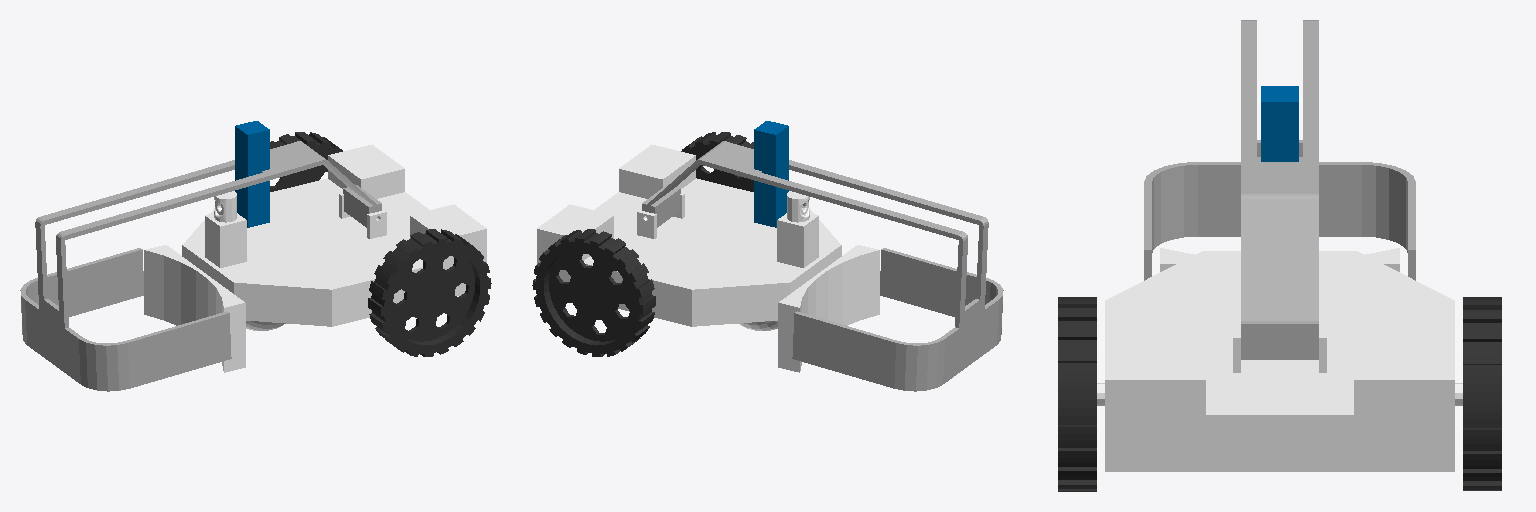
URDF robot description (t_robot):
<?xml version="1.0" encoding="utf-8"?>
<!-- This URDF was automatically created by SolidWorks to URDF Exporter! Originally created by [author] ([email redacted]) 
     Commit Version: 1.6.0-1-g15f4949  Build Version: 1.6.7594.29634
     For more information, please see http://wiki.ros.org/sw_urdf_exporter -->
<robot
  name="t_robot">
  <link
    name="base_link">
    <inertial>
      <origin
        xyz="0.0032126 0.039362 3.1215E-10"
        rpy="0 0 0" />
      <mass
        value="8" />
      <inertia
        ixx="0.33295"
        ixy="-0.033567"
        ixz="1.4807E-09"
        iyy="0.77867"
        iyz="-1.1059E-09"
        izz="0.50589" />
    </inertial>
    <visual>
      <origin
        xyz="0 0 0"
        rpy="0 0 0" />
      <geometry>
        <mesh
          filename="package://t_robot/meshes/base_link.STL" />
      </geometry>
      <material
        name="">
        <color
          rgba="1 1 1 1" />
      </material>
    </visual>
    <collision>
      <origin
        xyz="0 0 0"
        rpy="0 0 0" />
      <geometry>
        <mesh
          filename="package://t_robot/meshes/base_link.STL" />
      </geometry>
    </collision>
  </link>
  <link
    name="R_Link">
    <inertial>
      <origin
        xyz="0.024841 -2.5496E-10 2.4664E-10"
        rpy="0 0 0" />
      <mass
        value="1.0395" />
      <inertia
        ixx="0.010857"
        ixy="-5.4037E-11"
        ixz="5.2271E-11"
        iyy="0.0055922"
        iyz="-4.5579E-19"
        izz="0.0055922" />
    </inertial>
    <visual>
      <origin
        xyz="0 0 0"
        rpy="0 0 0" />
      <geometry>
        <mesh
          filename="package://t_robot/meshes/R_Link.STL" />
      </geometry>
      <material
        name="">
        <color
          rgba="0.25098 0.25098 0.25098 1" />
      </material>
    </visual>
    <collision>
      <origin
        xyz="0 0 0"
        rpy="0 0 0" />
      <geometry>
        <mesh
          filename="package://t_robot/meshes/R_Link.STL" />
      </geometry>
    </collision>
  </link>
  <joint
    name="R_Joint"
    type="continuous">
    <origin
      xyz="0.1 0.235 0.04"
      rpy="0.73198 0 1.5708" />
    <parent
      link="base_link" />
    <child
      link="R_Link" />
    <axis
      xyz="-1 0 0" />
  </joint>
  <link
    name="L_Link">
    <inertial>
      <origin
        xyz="0.024841 3.3307E-15 1.7271E-14"
        rpy="0 0 0" />
      <mass
        value="1.0395" />
      <inertia
        ixx="0.010857"
        ixy="-5.4352E-19"
        ixz="-1.9914E-18"
        iyy="0.0055922"
        iyz="2.1684E-19"
        izz="0.0055922" />
    </inertial>
    <visual>
      <origin
        xyz="0 0 0"
        rpy="0 0 0" />
      <geometry>
        <mesh
          filename="package://t_robot/meshes/L_Link.STL" />
      </geometry>
      <material
        name="">
        <color
          rgba="0.25098 0.25098 0.25098 1" />
      </material>
    </visual>
    <collision>
      <origin
        xyz="0 0 0"
        rpy="0 0 0" />
      <geometry>
        <mesh
          filename="package://t_robot/meshes/L_Link.STL" />
      </geometry>
    </collision>
  </link>
  <joint
    name="L_Joint"
    type="continuous">
    <origin
      xyz="0.1 -0.235 0.04"
      rpy="-3.0125 0 -1.5708" />
    <parent
      link="base_link" />
    <child
      link="L_Link" />
    <axis
      xyz="1 0 0" />
  </joint>
  <link
    name="Gripper_Link">
    <inertial>
      <origin
        xyz="0.46048 -0.014857 1.8794E-16"
        rpy="0 0 0" />
      <mass
        value="0.100" />
      <inertia
        ixx="0.03609"
        ixy="0.01982"
        ixz="5.644E-17"
        iyy="0.11229"
        iyz="3.0979E-17"
        izz="0.10981" />
    </inertial>
    <visual>
      <origin
        xyz="0 0 0"
        rpy="0 0 0" />
      <geometry>
        <mesh
          filename="package://t_robot/meshes/Gripper_Link.STL" />
      </geometry>
      <material
        name="">
        <color
          rgba="0.75294 0.75294 0.75294 1" />
      </material>
    </visual>
    <collision>
      <origin
        xyz="0 0 0"
        rpy="0 0 0" />
      <geometry>
        <mesh
          filename="package://t_robot/meshes/Gripper_Link.STL" />
      </geometry>
    </collision>
  </link>
  <joint
    name="Gripper_Joint"
    type="revolute">
    <origin
      xyz="0.1 0 0.12"
      rpy="1.5708 0.046241 -3.1416" />
    <parent
      link="base_link" />
    <child
      link="Gripper_Link" />
    <axis
      xyz="0 0 1" />
    <limit
      lower="0.6"
      upper="-0.01"
      effort="100"
      velocity="0.5" />
  </joint>
  <link name="camera_link">
   <inertial>
      <mass value="0.5"/>
      <origin rpy="0 0 0" xyz="0 0 0"/>
      <inertia ixx="0.00270833333333" ixy="0" ixz="0" iyy="0.00104166666667" iyz="0" izz="0.00208333333333"/>
    </inertial>
    <collision>
      <geometry>
        <box size="0.05 0.05 0.2"/>
      </geometry>
    </collision>
    <visual>
      <geometry>
        <box size="0.05 0.05 0.2"/>
      </geometry>
      <material name="white"/>
    </visual>
  </link>

  <joint name="joint_sensor_camera" type="fixed">
    <origin xyz="-0.15 0 0.25" rpy="0 0 3.1428"/>
    <parent link="base_link"/>
    <child link="camera_link"/>
  </joint>

  <gazebo>
    <plugin filename="libgazebo_ros_diff_drive.so" name="differential_drive_controller">
      <alwaysOn>true</alwaysOn>
      <updateRate>20</updateRate>
      <leftJoint>L_Joint</leftJoint>
      <rightJoint>R_Joint</rightJoint>
      <wheelSeparation>0.470</wheelSeparation>
      <wheelDiameter>0.25</wheelDiameter>
      <torque>0.01</torque>
      <commandTopic>cmd_vel</commandTopic>
      <odometryTopic>odom</odometryTopic>
      <odometryFrame>odom</odometryFrame>
      <robotBaseFrame>base_link</robotBaseFrame>
    </plugin>
  </gazebo>
  <gazebo reference="camera_link">
    <sensor type="camera" name="camera1">
      <update_rate>30.0</update_rate>
      <camera name="head">
        <horizontal_fov>1.3962634</horizontal_fov>
        <image>
          <width>800</width>
          <height>800</height>
          <format>R8G8B8</format>
        </image>
        <clip>
          <near>0.02</near>
          <far>300</far>
        </clip>
        <noise>
          <type>gaussian</type>
          <!-- Noise is sampled independently per pixel on each frame.
               That pixel's noise value is added to each of its color
               channels, which at that point lie in the range [0,1]. -->
          <mean>0.0</mean>
          <stddev>0.007</stddev>
        </noise>
      </camera>
      <plugin name="camera_controller" filename="libgazebo_ros_camera.so">
        <alwaysOn>true</alwaysOn>
        <updateRate>0.0</updateRate>
        <cameraName>t_robot/camera1</cameraName>
        <imageTopicName>image_raw</imageTopicName>
        <cameraInfoTopicName>camera_info</cameraInfoTopicName>
        <frameName>camera_link</frameName>
        <hackBaseline>0.07</hackBaseline>
        <distortionK1>0.0</distortionK1>
        <distortionK2>0.0</distortionK2>
        <distortionK3>0.0</distortionK3>
        <distortionT1>0.0</distortionT1>
        <distortionT2>0.0</distortionT2>
      </plugin>
    </sensor>
  </gazebo>
</robot>

--- Facts derived from the render (not from the file) ---
Views: 3 orthographic renders of the robot side by side, from view 1: azimuth 30°, elevation 25°; view 2: azimuth 150°, elevation 25°; view 3: azimuth 270°, elevation 25°.
Model t_robot with 5 links and 4 joints (1 revolute, 2 continuous, 1 fixed), rooted at base_link, posed all joints at 0.
Links seen in each view (by area): view 1: base_link, Gripper_Link, L_Link, camera_link, R_Link; view 2: base_link, Gripper_Link, R_Link, camera_link, L_Link; view 3: base_link, Gripper_Link, L_Link, R_Link, camera_link.
Link boxes in pixels (left/top/right/bottom): base_link: left=144, top=145, right=486, bottom=372; Gripper_Link: left=20, top=141, right=381, bottom=391; L_Link: left=368, top=229, right=491, bottom=356; camera_link: left=235, top=121, right=269, bottom=227; R_Link: left=270, top=132, right=342, bottom=191; base_link: left=537, top=145, right=879, bottom=372; Gripper_Link: left=642, top=141, right=1003, bottom=391; R_Link: left=532, top=229, right=655, bottom=356; camera_link: left=754, top=121, right=788, bottom=227; L_Link: left=681, top=132, right=753, bottom=191; base_link: left=1097, top=248, right=1462, bottom=471; Gripper_Link: left=1144, top=20, right=1415, bottom=359; L_Link: left=1058, top=297, right=1096, bottom=491; R_Link: left=1463, top=297, right=1501, bottom=490; camera_link: left=1261, top=86, right=1298, bottom=161.
Size in the robot's own frame: 0.861 by 0.57 by 0.4349 metres.
Meshes: 4 distinct files referenced, 4 mesh visuals loaded (4 binary STL).
